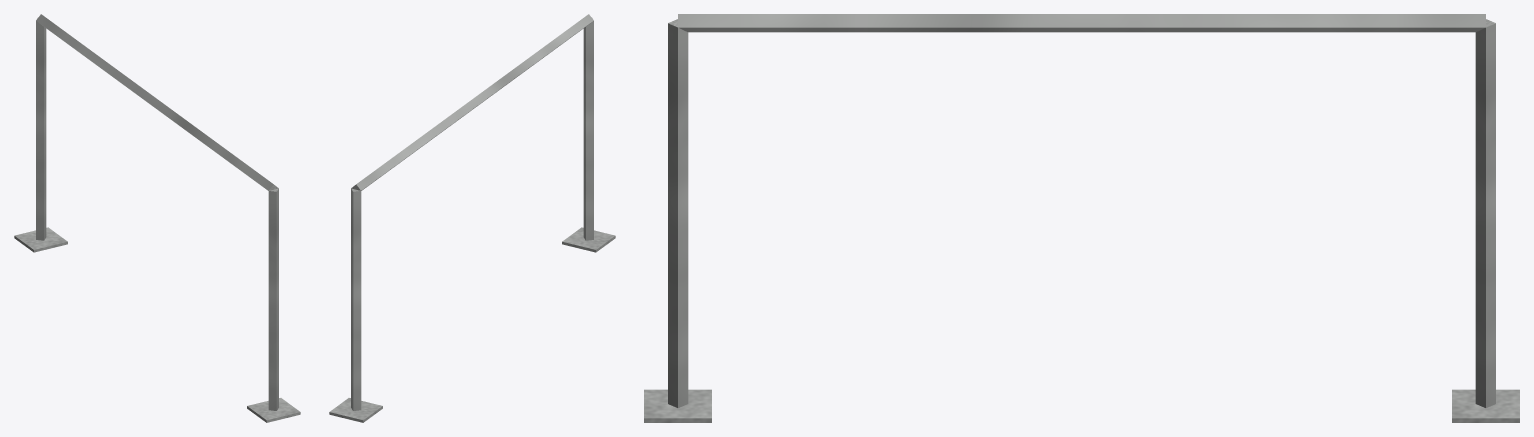
The model's file is SM_MoloItalia_RinghieraModulo_LOD2.fbx.
3 renders of one model, left to right at view 1: azimuth 30°, elevation 25°; view 2: azimuth 150°, elevation 25°; view 3: azimuth 270°, elevation 25°, orthographic. The views are drawn at different scales.
Visible parts, largest first — view 1: SM_MoloItalia_RinghieraModulo_LOD2; view 2: SM_MoloItalia_RinghieraModulo_LOD2; view 3: SM_MoloItalia_RinghieraModulo_LOD2.
Part boxes in pixels (x1,y1,x2,y2): SM_MoloItalia_RinghieraModulo_LOD2: (14,14,300,422); SM_MoloItalia_RinghieraModulo_LOD2: (329,14,615,422); SM_MoloItalia_RinghieraModulo_LOD2: (644,14,1519,422).
Bounding box in the file's own units: 16 × 206 × 102.
1 material, 1 textured.
